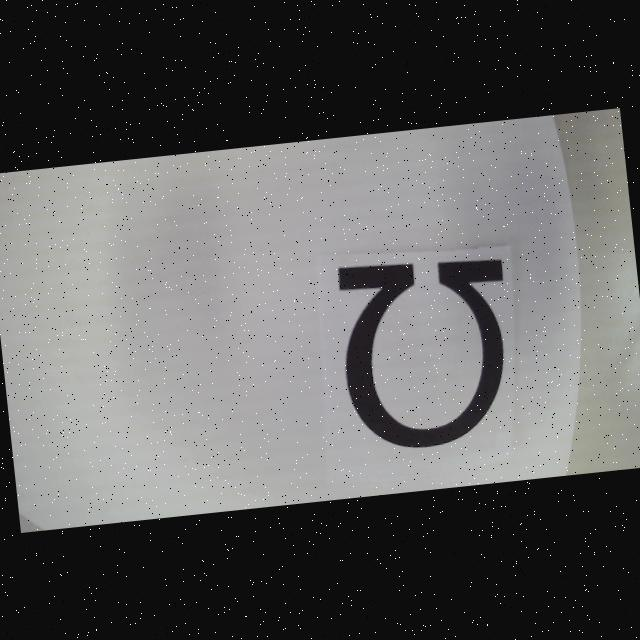OMEGA: (335, 247, 520, 453)
